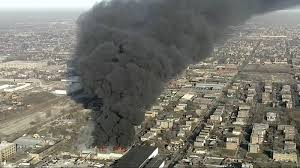smoke: (61, 1, 300, 151)
